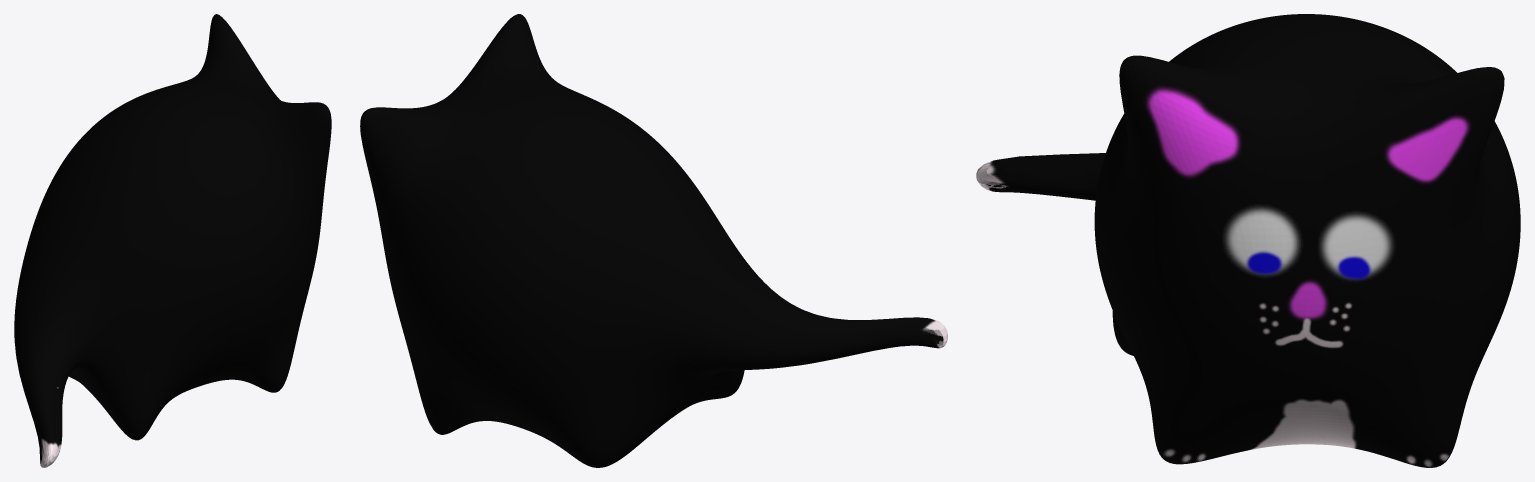
The model's file is cat.glb.
3 views of the same model, side by side, from view 1: azimuth 30°, elevation 25°; view 2: azimuth 150°, elevation 25°; view 3: azimuth 270°, elevation 25° (orthographic). The views are drawn at different scales.
Visible parts, largest first — view 1: Quad Sphere; view 2: Quad Sphere; view 3: Quad Sphere.
Boxes of the visible parts, <box> form: Quad Sphere: <box>14,14,331,467</box>; Quad Sphere: <box>360,14,947,467</box>; Quad Sphere: <box>976,14,1520,467</box>.
Bounding box in the file's own units: 3.9 × 2.98 × 3.36.
Materials: 1 (1 with a texture image).
